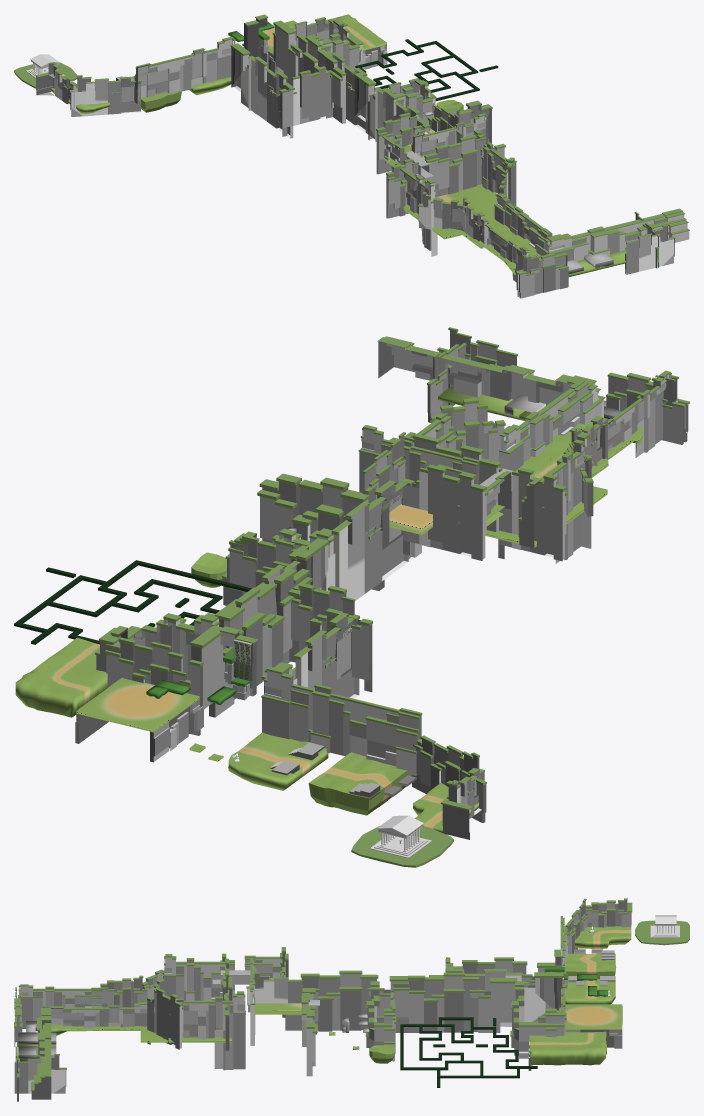
File: BaseNivel1.obj
3 renders of one model, top to bottom at view 1: azimuth 30°, elevation 25°; view 2: azimuth 150°, elevation 25°; view 3: azimuth 270°, elevation 25°, orthographic. The views are drawn at different scales.
Visible parts, largest first — view 1: Cube.893, Cube.889, 8_pared.014, 8_pared.013, 8_pared.006, 8_pared.019, Cube.2889, 8_pared.012, 8_pared.009, 8_pared.017, 8_pared.001, Cube.884 (+21 smaller); view 2: Cube.893, 8_pared.009, 8_pared.013, Cube.889, 8_pared.004, 8_pared.008, Cube.2888, 8_pared.019, Cube.884, 8_pared.007, 8_pared.014, Cube.093 (+27 smaller); view 3: 8_pared.021, 8_pared.009, Cube.888, Cube.887, Cube.2888, 8_pared.013, Cube.884, Cube.886, Cube.3211, 8_pared.005, Cube.093, Cube.889 (+23 smaller).
Part boxes in pixels (x1,y1,x2,y2): Cube.893: [134, 36, 235, 103]; Cube.889: [544, 208, 689, 261]; 8_pared.014: [230, 43, 296, 138]; 8_pared.013: [273, 20, 346, 123]; 8_pared.006: [424, 135, 505, 196]; 8_pared.019: [279, 66, 332, 136]; Cube.2889: [403, 184, 540, 274]; 8_pared.012: [69, 75, 141, 116]; 8_pared.009: [354, 72, 430, 141]; 8_pared.017: [518, 253, 568, 298]; 8_pared.001: [625, 224, 675, 274]; Cube.884: [494, 193, 552, 255]; Cube.893: [261, 666, 422, 775]; 8_pared.009: [295, 480, 408, 600]; 8_pared.013: [190, 568, 312, 717]; Cube.889: [377, 336, 605, 417]; 8_pared.004: [401, 464, 488, 560]; 8_pared.008: [257, 473, 390, 590]; Cube.2888: [15, 637, 107, 717]; 8_pared.019: [288, 583, 372, 692]; Cube.884: [499, 379, 602, 471]; 8_pared.007: [498, 467, 567, 561]; 8_pared.014: [261, 612, 359, 698]; Cube.093: [76, 678, 199, 732]; 8_pared.021: [392, 972, 517, 1032]; 8_pared.009: [285, 970, 418, 1031]; Cube.888: [176, 991, 245, 1070]; Cube.887: [163, 954, 234, 1000]; Cube.2888: [529, 1031, 606, 1065]; 8_pared.013: [429, 968, 563, 1026]; Cube.884: [50, 1002, 147, 1028]; Cube.886: [18, 984, 102, 1028]; Cube.3211: [510, 981, 564, 1058]; 8_pared.005: [147, 988, 184, 1049]; Cube.093: [559, 1004, 622, 1029]; Cube.889: [31, 1008, 51, 1099].
Bounding box in the file's own units: 261 × 63.44 × 423.
